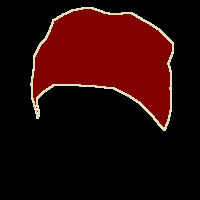hat: (31, 8, 173, 130)
